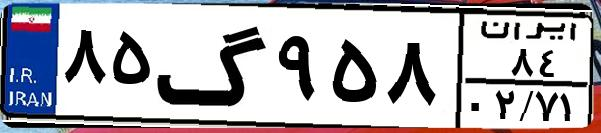0: (470, 70, 495, 125)
1: (560, 70, 590, 125)
2: (495, 70, 520, 125)
4: (537, 27, 568, 80)
5: (330, 28, 385, 110), (110, 28, 156, 98)
7: (535, 70, 560, 125)
8: (385, 28, 445, 110), (57, 26, 110, 100), (508, 27, 537, 80)
9: (270, 28, 330, 110)
گ: (156, 12, 270, 120)
